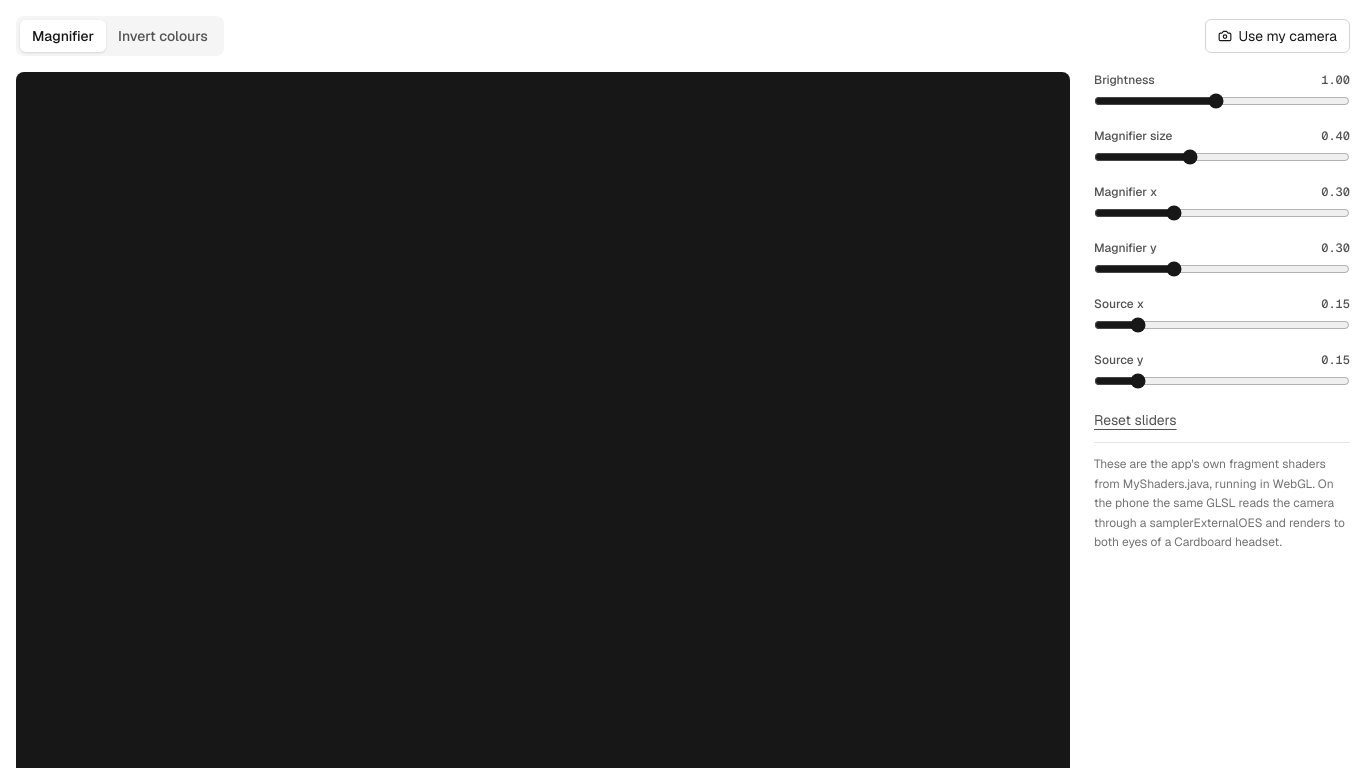
Test: VRVisionDemo › restores defaults when the sliders are reset
Step 1. Set the slider labelled "Magnifier size 0.40" to "0.9" → (1317, 157), box [1094, 149, 1350, 165]
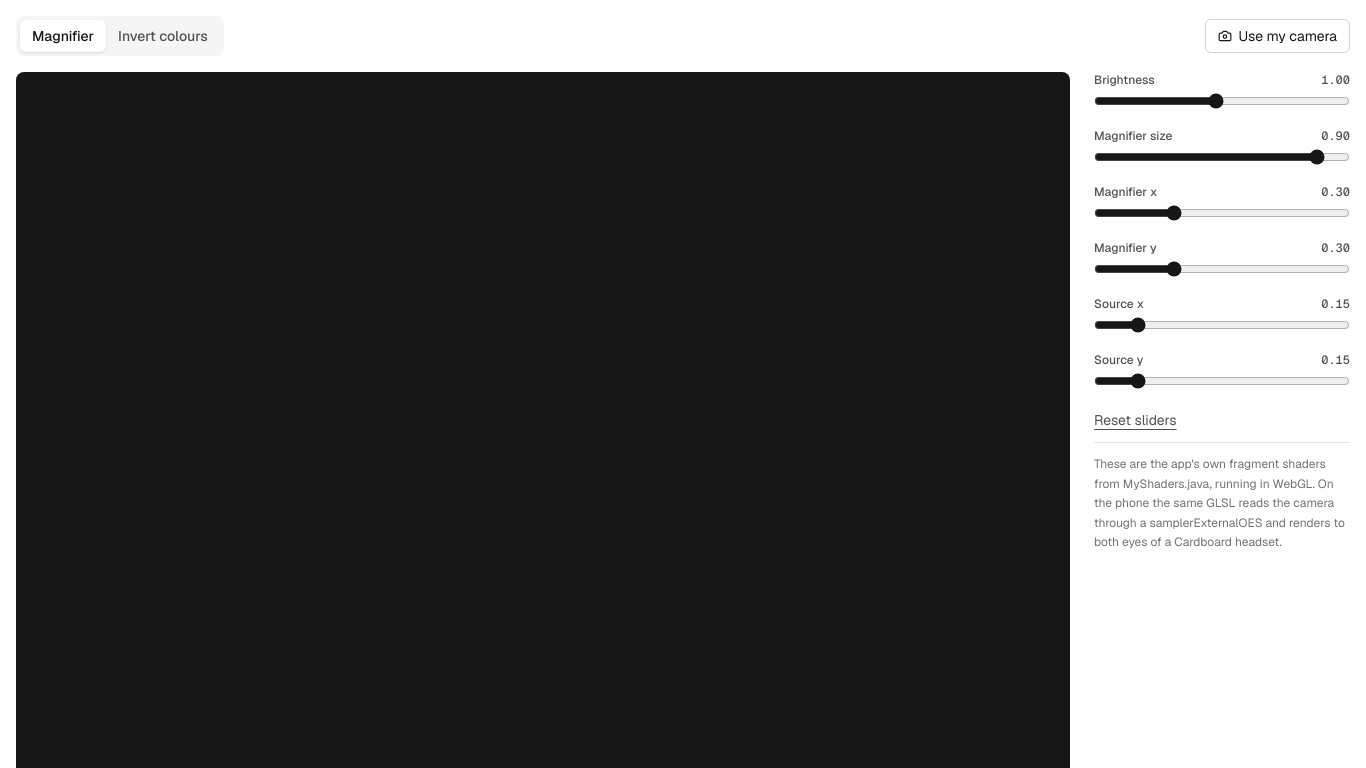
Step 2. Click the button "Reset sliders" → (1135, 420), box [1094, 410, 1177, 430]
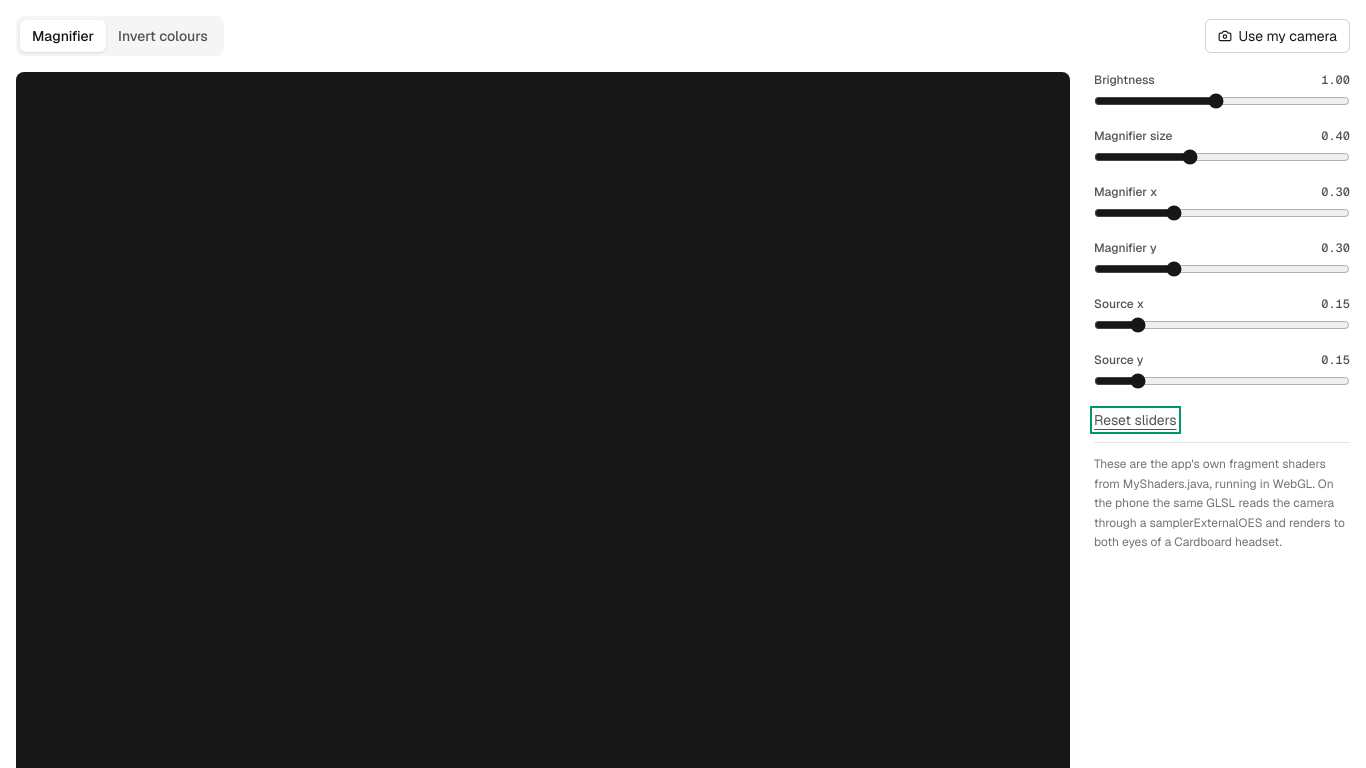
Check: the slider labelled "Magnifier size 0.40" holds "0.4", box [1094, 149, 1350, 165]
